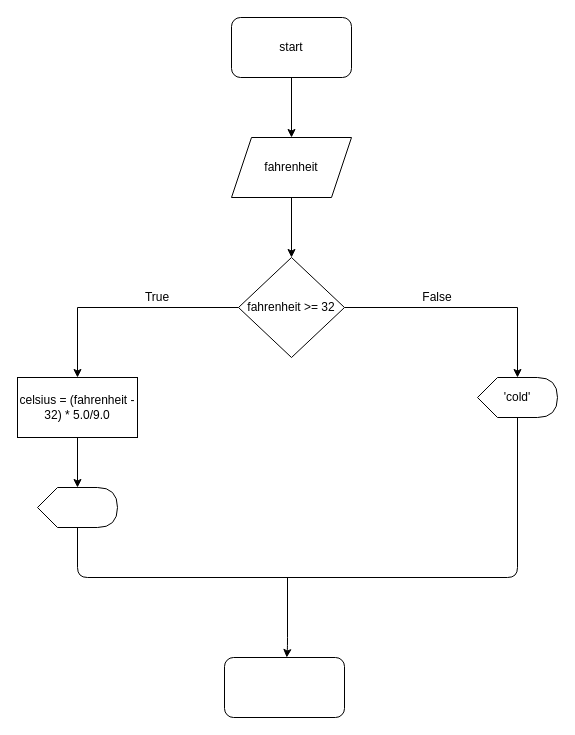
Some shapes in this 575 by 735 pixel diagram are drawn without their labels. The shapes that lost their labels are listed below. From the top down, each one's centre as x and y in pixels, then its label:
At (x=77, y=507): "celsius".
At (x=284, y=687): "End".
